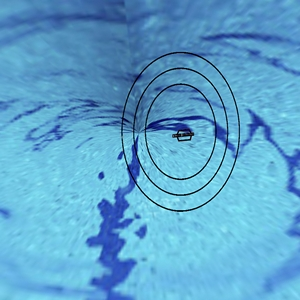circle: (110, 36, 251, 219)
submarine: (168, 122, 197, 147)
